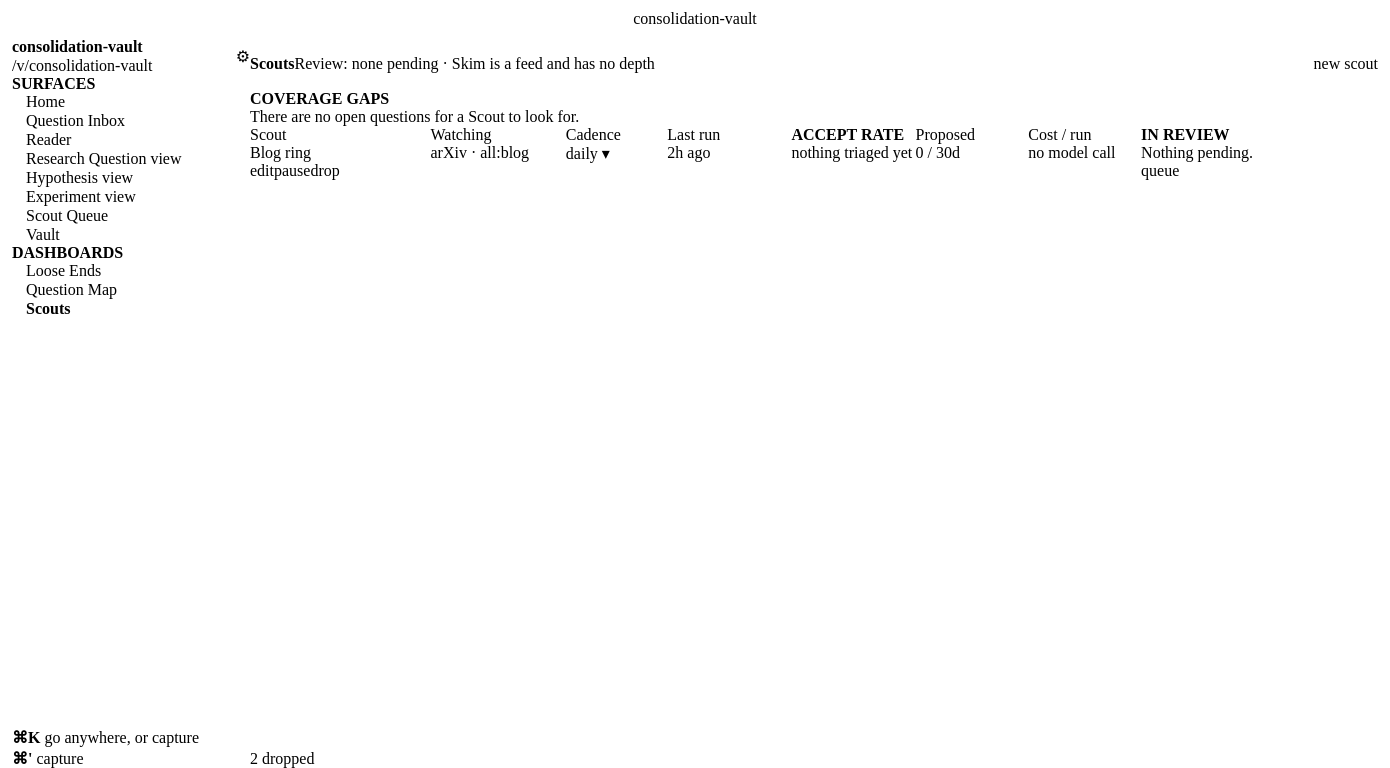
Test case: Scouts screen — erase › is offered beside restore on every dropped Scout, and nowhere else on the page
expect the table named "Scouts" is shown: met, box [250,126,1378,180]
Click the button "2 dropped" at (282, 759), box [250,750,314,767]
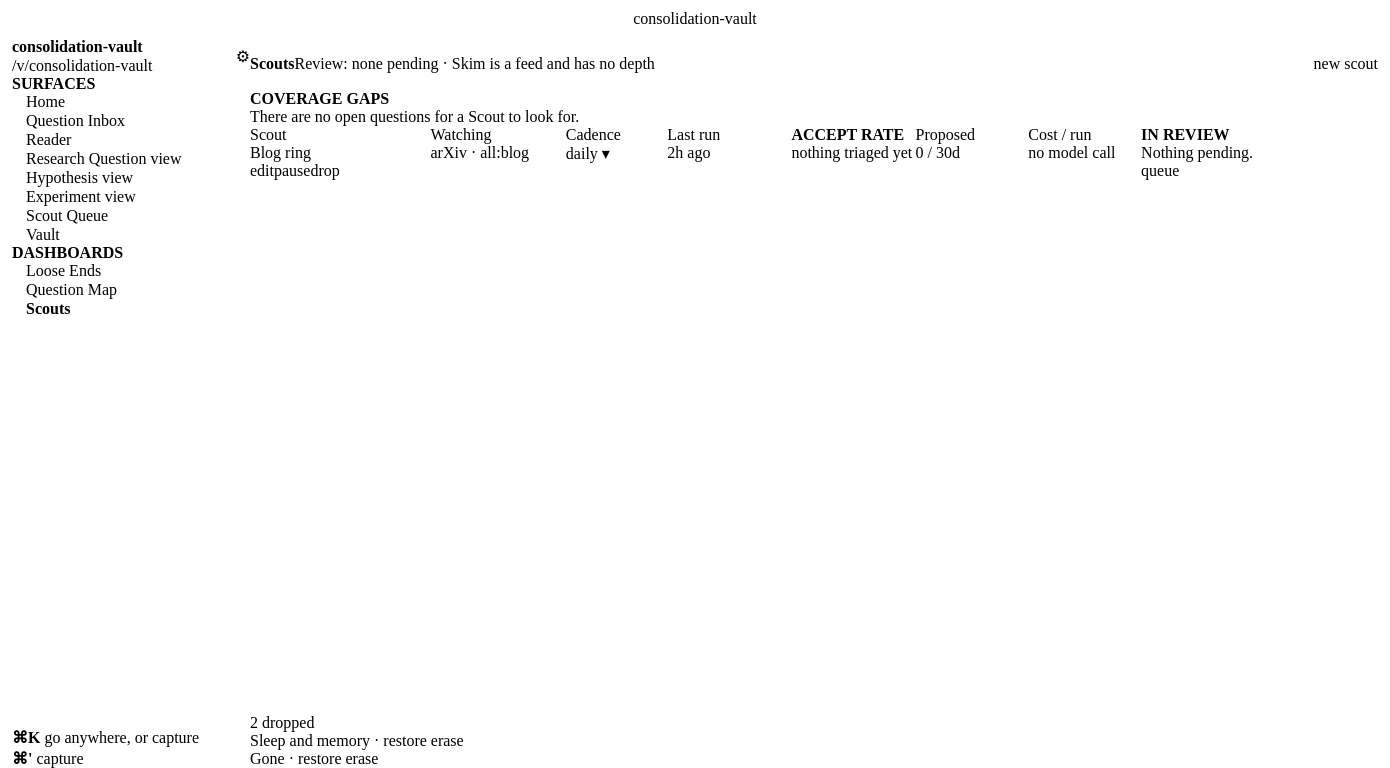
expect the number of buttons named ": erase" is 2: met, box [431,732,464,750]; [346,750,378,767]
